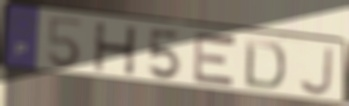5: (145, 26, 186, 81), (46, 15, 85, 72)
D: (242, 37, 288, 92)
E: (191, 29, 240, 91)
H: (93, 22, 140, 78)
J: (296, 46, 335, 97)
